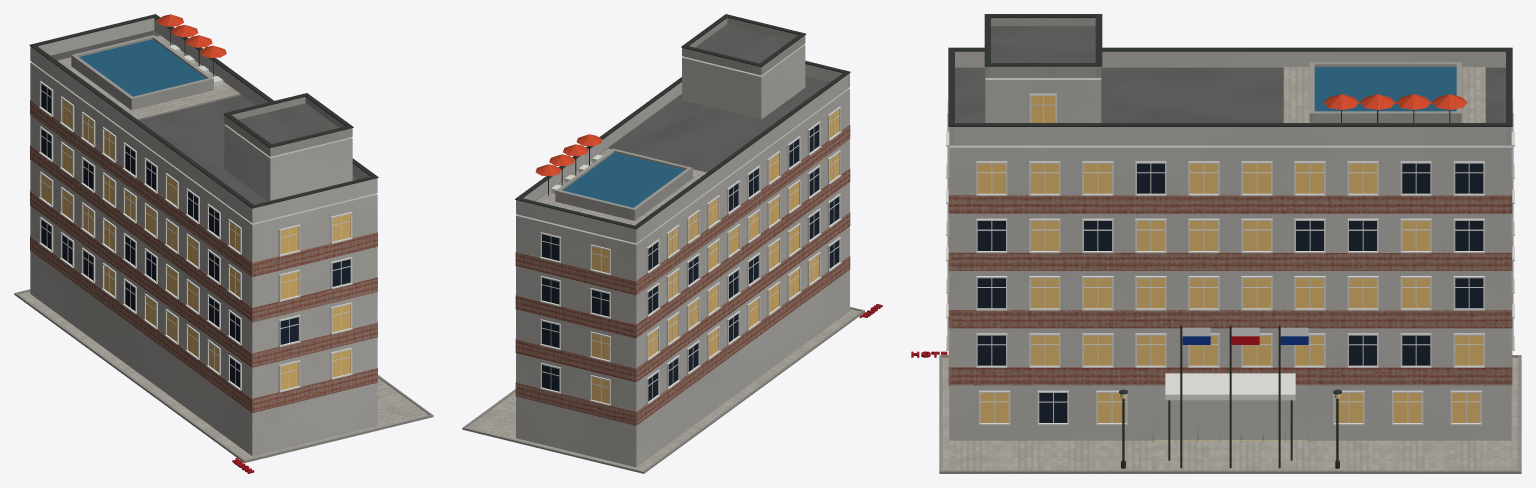
The model's file is dum_07_hotel.glb.
3 views of the same model, side by side, from view 1: azimuth 30°, elevation 25°; view 2: azimuth 150°, elevation 25°; view 3: azimuth 270°, elevation 25° (orthographic). The views are drawn at different scales.
Visible parts, largest first — view 1: dum, noc; view 2: dum, noc; view 3: dum, noc.
Part boxes in pixels (<box>): dum: <box>14,14,433,473</box>; noc: <box>41,99,350,389</box>; dum: <box>462,14,882,473</box>; noc: <box>592,109,839,403</box>; dum: <box>911,14,1521,473</box>; noc: <box>977,96,1483,440</box>.
Bounding box in the file's own units: 13.58 × 19.37 × 28.88.
1 material, 1 textured.
